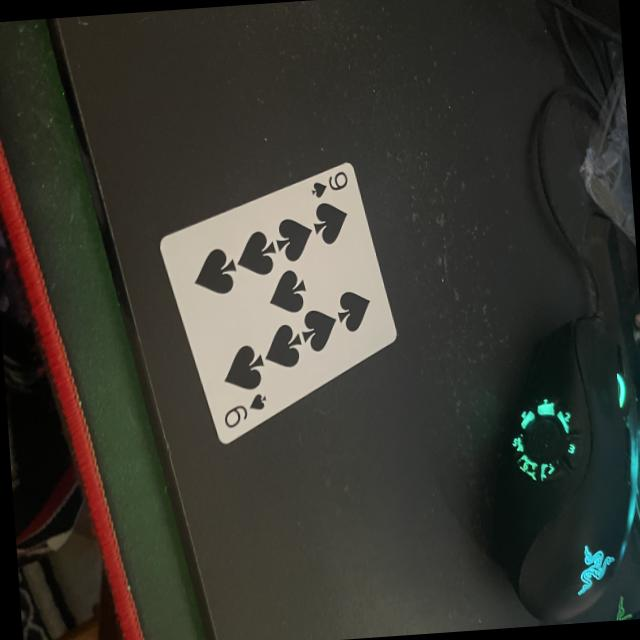9 of spades: (152, 163, 399, 451)
